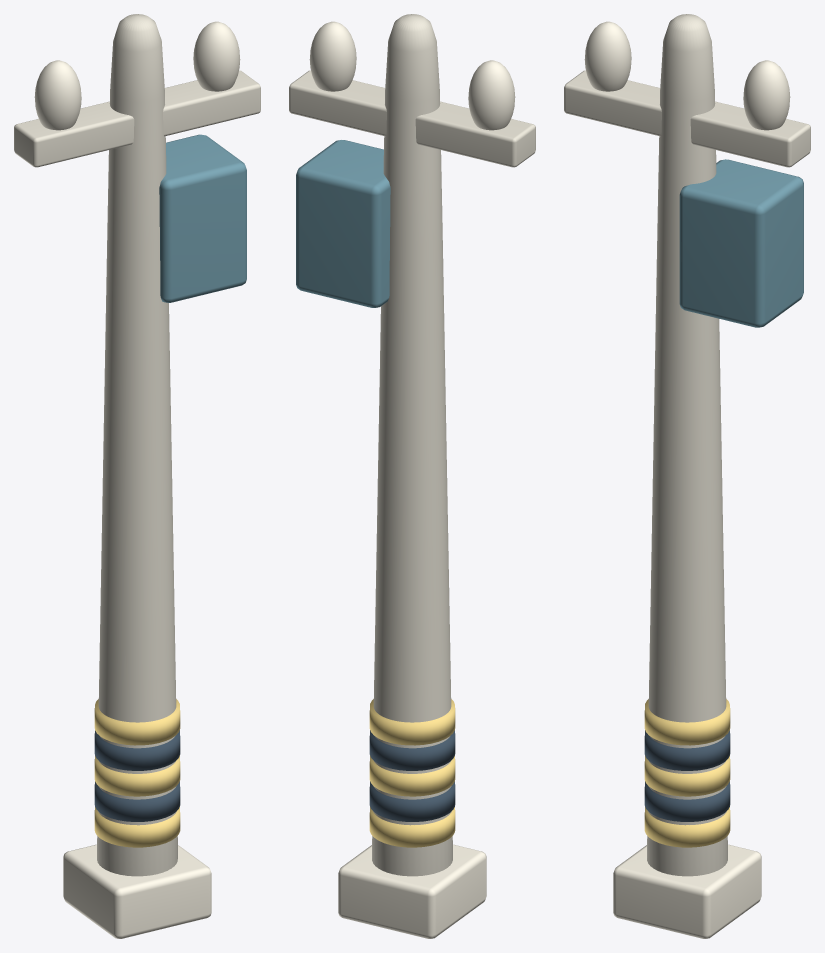
Rendered from SoftUtilityPole.fbx.
The picture shows the model from 3 angles, left to right: view 1: azimuth 30°, elevation 25°; view 2: azimuth 150°, elevation 25°; view 3: azimuth 330°, elevation 25°; orthographic projection.
Visible parts, largest first — view 1: Pole, Transformer, Base, CrossArm, Insulator_1, Insulator_-1, SafetyBand_4, SafetyBand_3, SafetyBand_2, SafetyBand_1, SafetyBand_0; view 2: Pole, Transformer, Base, CrossArm, Insulator_1, Insulator_-1, SafetyBand_4, SafetyBand_3, SafetyBand_2, SafetyBand_1, SafetyBand_0; view 3: Pole, Transformer, Base, CrossArm, Insulator_-1, Insulator_1, SafetyBand_4, SafetyBand_3, SafetyBand_2, SafetyBand_1, SafetyBand_0.
Boxes of the visible parts, left/top/right/bottom form: Pole: left=97, top=14, right=177, bottom=876; Transformer: left=159, top=134, right=246, bottom=302; Base: left=63, top=844, right=211, bottom=938; CrossArm: left=14, top=70, right=260, bottom=167; Insulator_1: left=193, top=21, right=240, bottom=91; Insulator_-1: left=34, top=60, right=81, bottom=130; SafetyBand_4: left=94, top=699, right=180, bottom=745; SafetyBand_3: left=94, top=730, right=180, bottom=770; SafetyBand_2: left=94, top=755, right=180, bottom=796; SafetyBand_1: left=94, top=781, right=180, bottom=821; SafetyBand_0: left=94, top=807, right=180, bottom=847; Pole: left=372, top=14, right=452, bottom=876; Transformer: left=296, top=140, right=390, bottom=307; Base: left=338, top=844, right=486, bottom=938; CrossArm: left=289, top=70, right=535, bottom=167; Insulator_1: left=309, top=21, right=356, bottom=91; Insulator_-1: left=468, top=60, right=515, bottom=130; SafetyBand_4: left=369, top=699, right=455, bottom=745; SafetyBand_3: left=369, top=730, right=455, bottom=770; SafetyBand_2: left=369, top=755, right=455, bottom=796; SafetyBand_1: left=369, top=781, right=455, bottom=821; SafetyBand_0: left=369, top=807, right=455, bottom=847; Pole: left=647, top=14, right=727, bottom=876; Transformer: left=679, top=159, right=803, bottom=327; Base: left=613, top=844, right=761, bottom=938; CrossArm: left=564, top=70, right=810, bottom=167; Insulator_-1: left=584, top=21, right=631, bottom=91; Insulator_1: left=743, top=60, right=790, bottom=130; SafetyBand_4: left=644, top=699, right=730, bottom=745; SafetyBand_3: left=644, top=730, right=730, bottom=770; SafetyBand_2: left=644, top=755, right=730, bottom=796; SafetyBand_1: left=644, top=781, right=730, bottom=821; SafetyBand_0: left=644, top=807, right=730, bottom=847.
Bounding box in the file's own units: 1.12 × 4.2 × 0.48.
